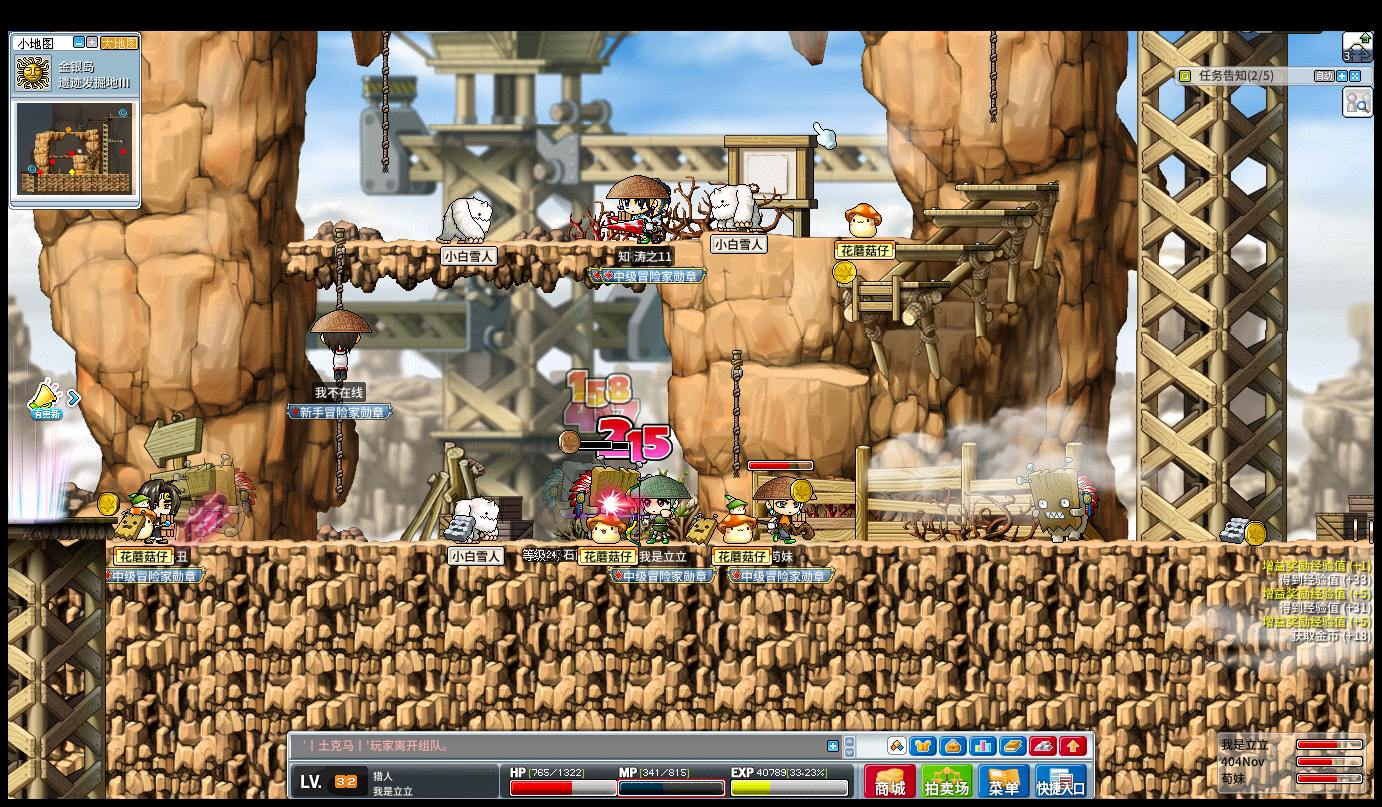floor: (285, 239, 667, 250), (763, 364, 870, 385), (834, 279, 950, 288), (9, 515, 115, 524), (922, 207, 1034, 215), (952, 184, 1059, 191), (817, 233, 924, 240), (886, 244, 994, 250)
monster: (1020, 460, 1097, 541), (570, 460, 639, 538)
rope: (728, 347, 741, 475), (378, 31, 389, 173), (333, 226, 345, 309), (988, 30, 997, 122), (334, 421, 342, 504)
